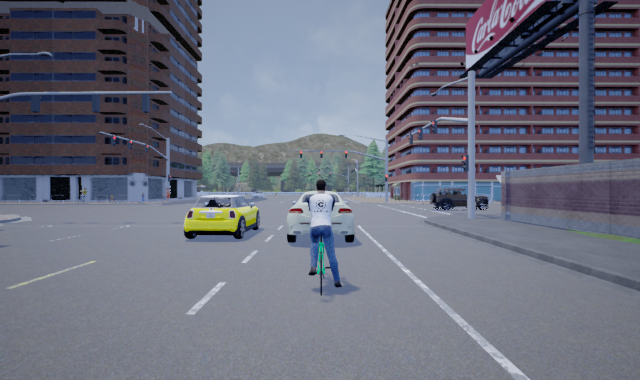bike: (307, 179, 342, 296)
pedestrian: (79, 186, 89, 202), (163, 186, 170, 202)
vehicle: (285, 191, 354, 243), (183, 192, 260, 238), (429, 187, 488, 211)
